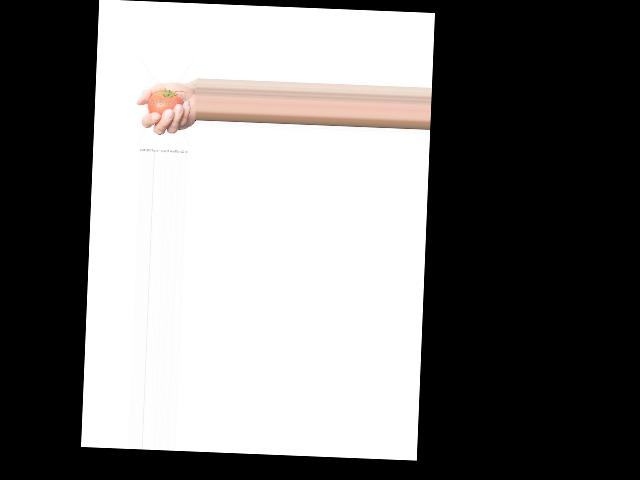tomato: (147, 89, 183, 115)
